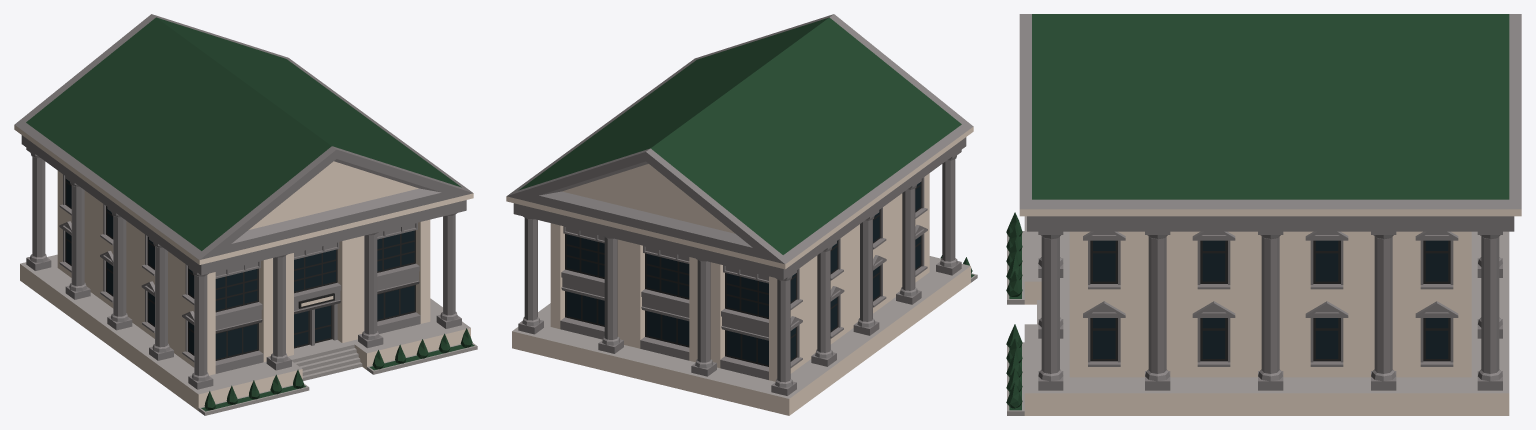
Rendered from building-bank.ce166ad5.glb.
3 renders of one model, left to right at view 1: azimuth 30°, elevation 25°; view 2: azimuth 150°, elevation 25°; view 3: azimuth 270°, elevation 25°, orthographic. The views are drawn at different scales.
Visible parts, largest first — view 1: building-bank; view 2: building-bank; view 3: building-bank.
Part boxes in pixels (<box>): building-bank: <box>14,14,477,415</box>; building-bank: <box>506,14,977,415</box>; building-bank: <box>1006,14,1521,415</box>.
Bounding box in the file's own units: 17.1 × 13.7 × 20.53.
